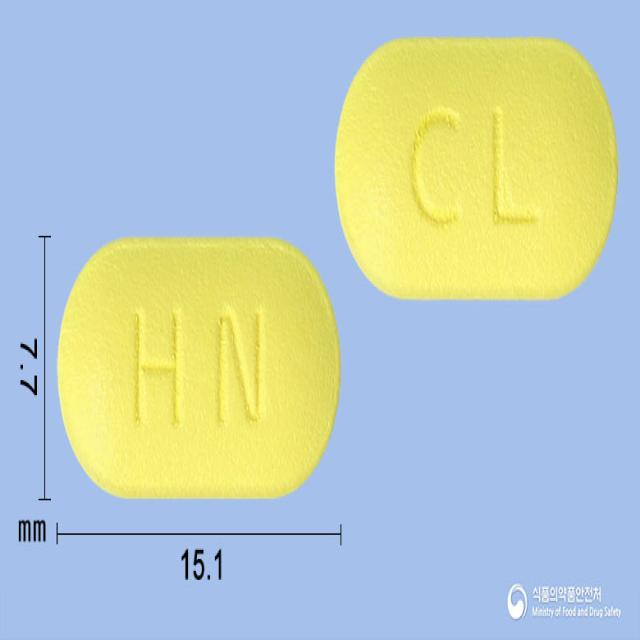Cyclin: (334, 34, 620, 305), (54, 231, 342, 497)
